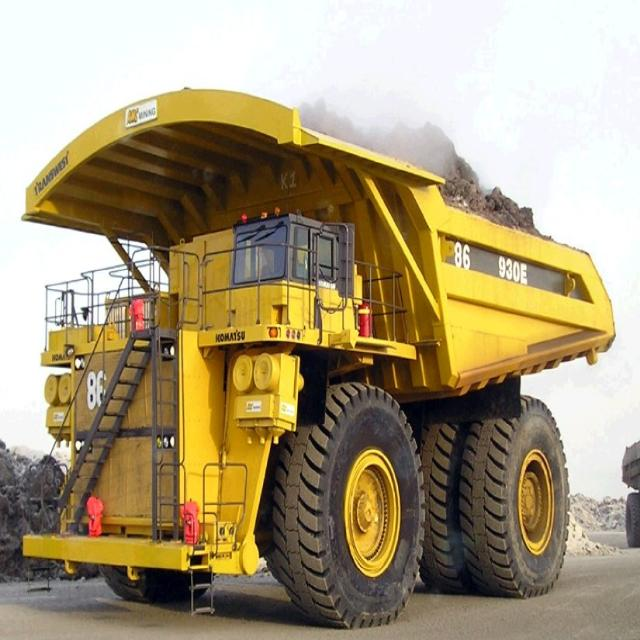dump_truck: (15, 79, 616, 639)
